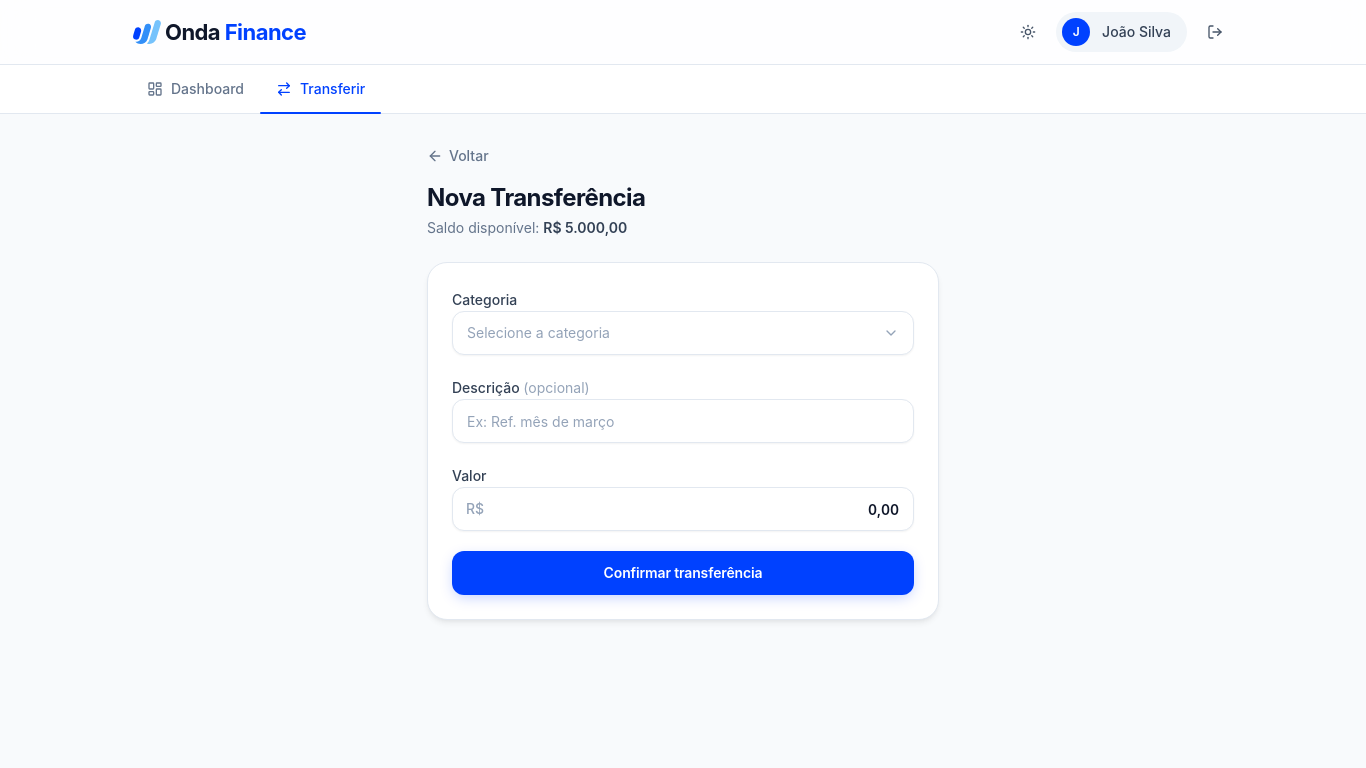
Test: Transfer Page › should show validation error when no category selected
Click the field labelled "Valor". click: point(683, 509)
box: [452, 487, 914, 531]
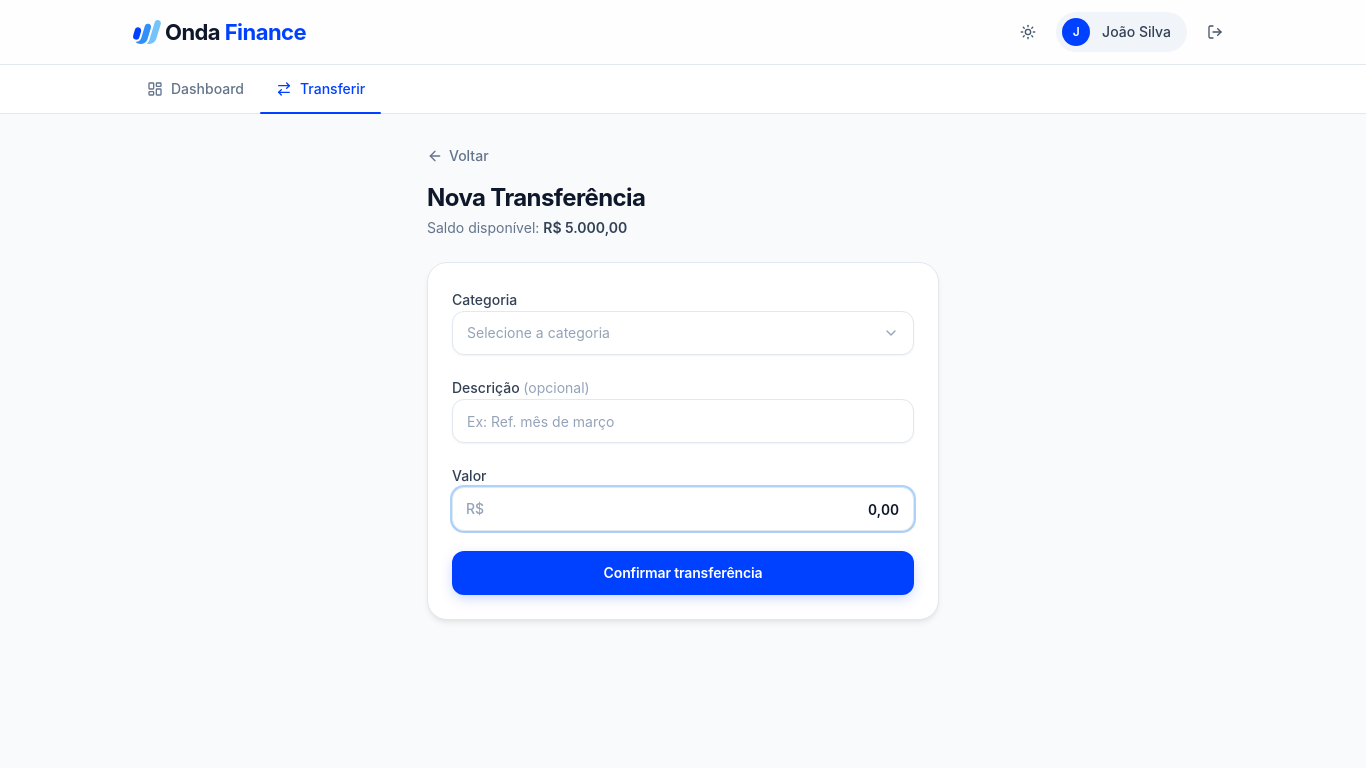
Type keys "10000"
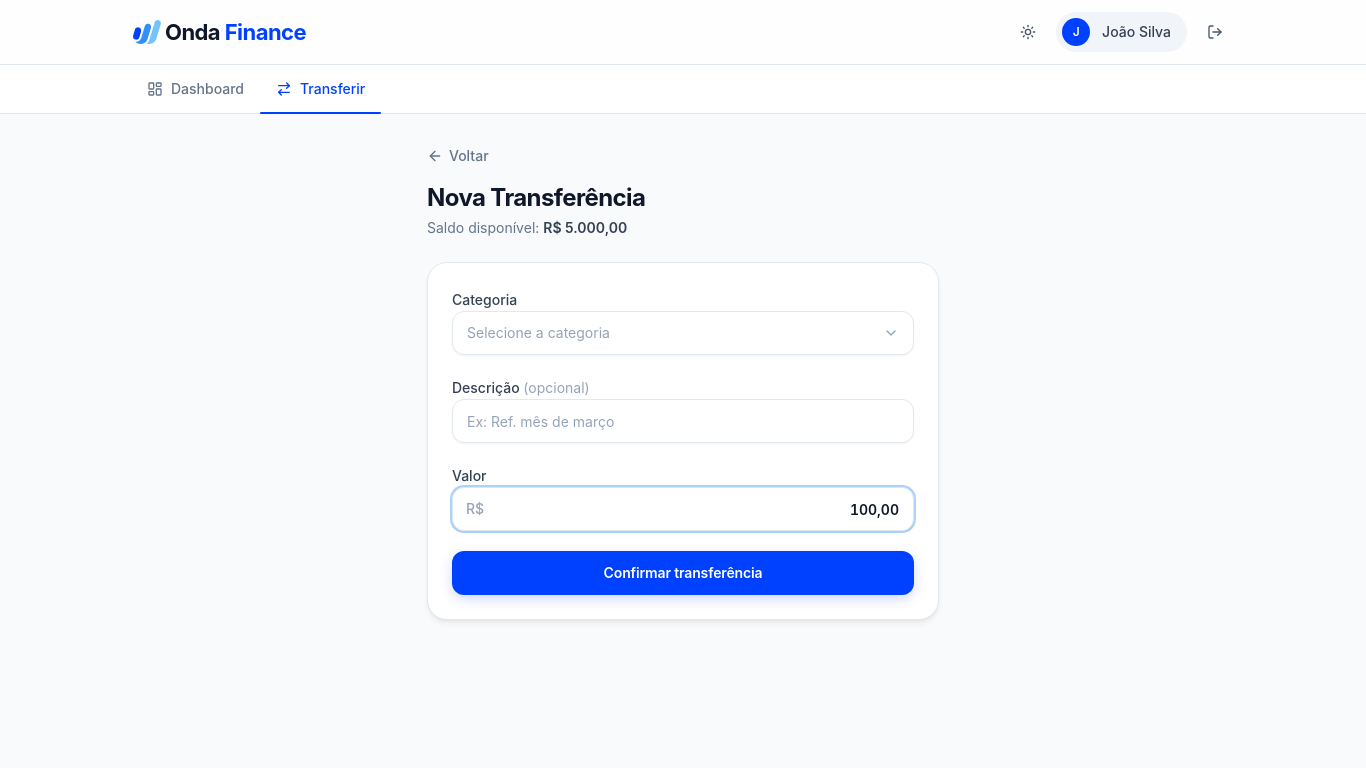
Click the button "Confirmar transferência". click: point(683, 573)
box: [452, 551, 914, 595]
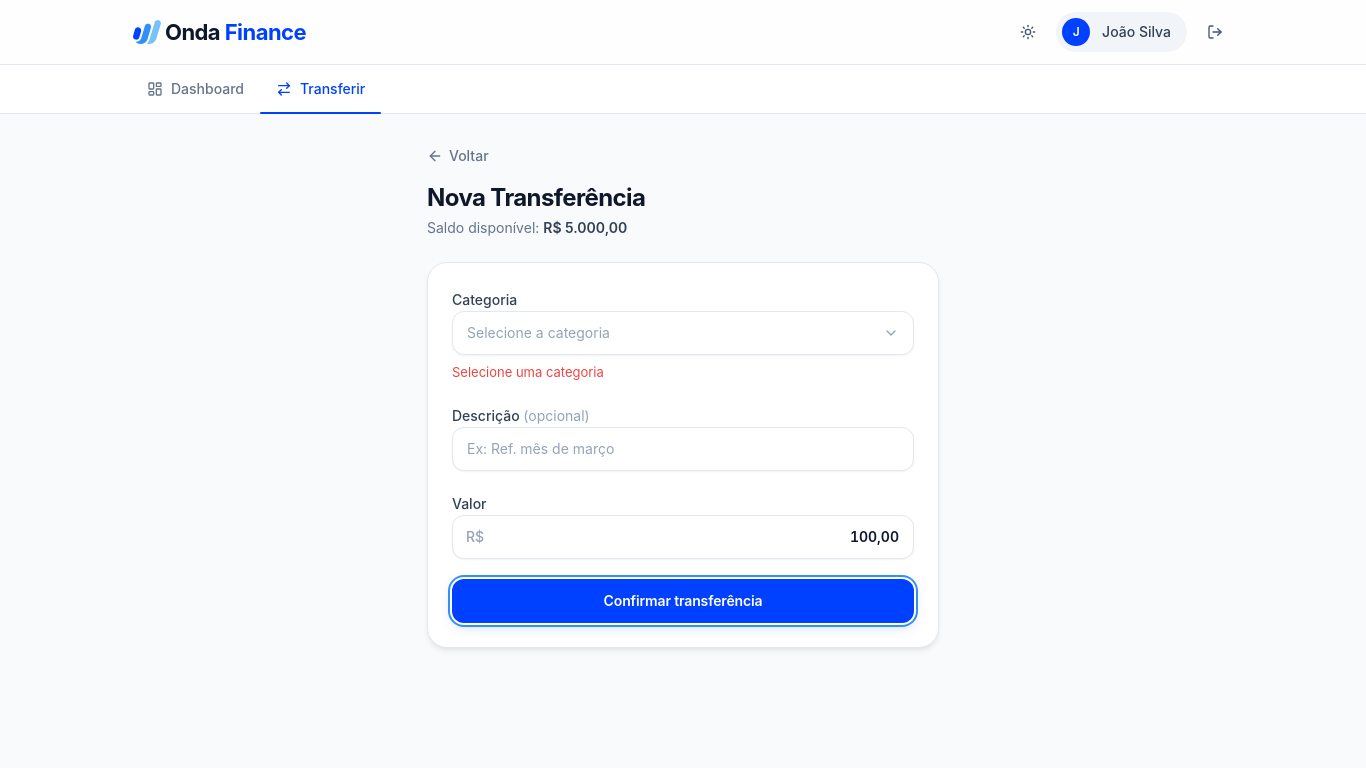
Result: the text "Selecione uma categoria" is shown at [452, 364, 604, 380]
